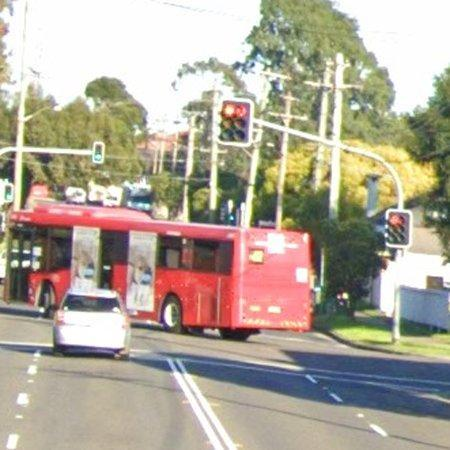buses: (7, 204, 313, 337)
